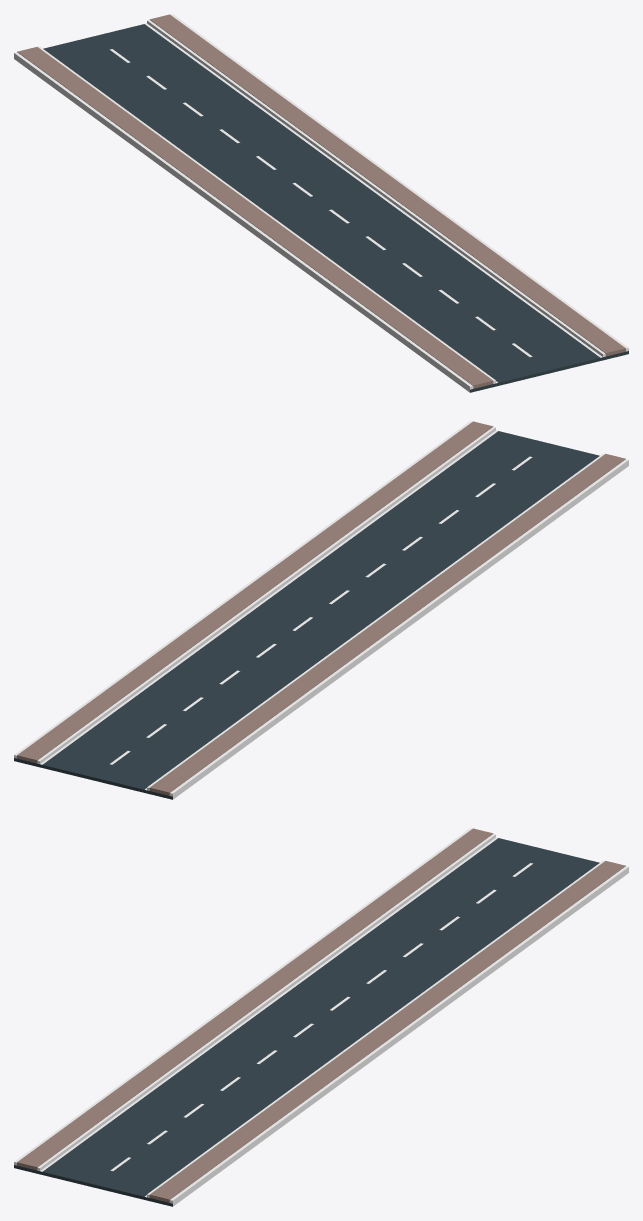
Rendered from long_road_two_pavement.fbx.
3 views of the same model, one above another, from view 1: azimuth 30°, elevation 25°; view 2: azimuth 150°, elevation 25°; view 3: azimuth 330°, elevation 25° (orthographic).
Visible parts, largest first — view 1: long_road_two_pavement; view 2: long_road_two_pavement; view 3: long_road_two_pavement.
Boxes of the visible parts, <box> form: long_road_two_pavement: <box>14,14,628,392</box>; long_road_two_pavement: <box>14,421,628,799</box>; long_road_two_pavement: <box>14,828,628,1206</box>.
Bounding box in the file's own units: 1337 × 52.78 × 6650.
